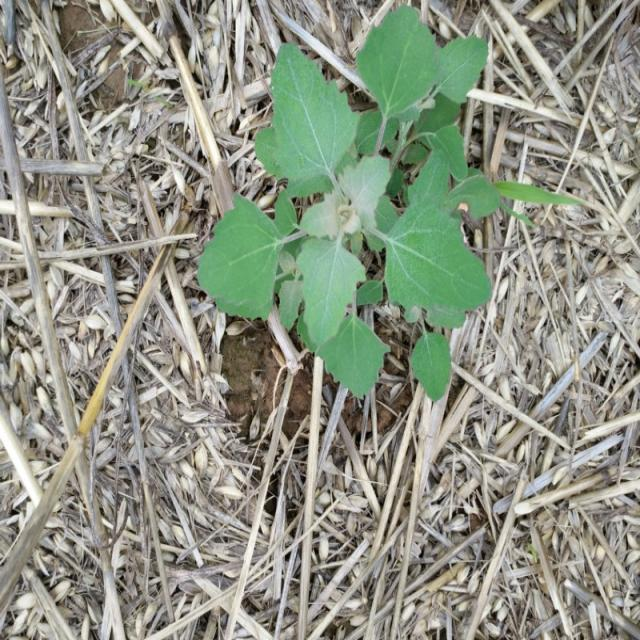goosefoots: (197, 21, 530, 367)
